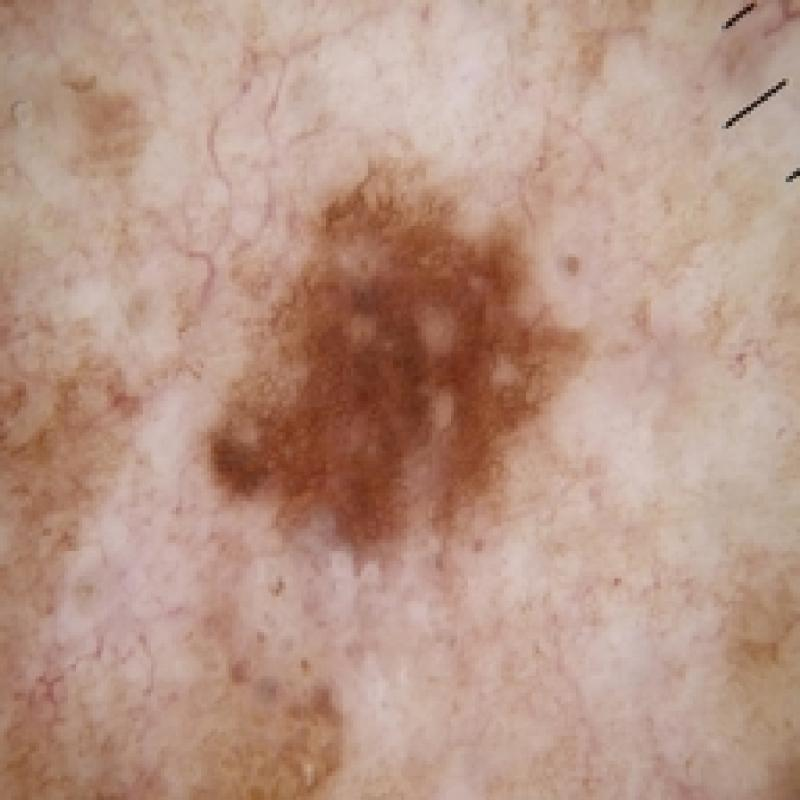benign: (187, 127, 612, 596)
